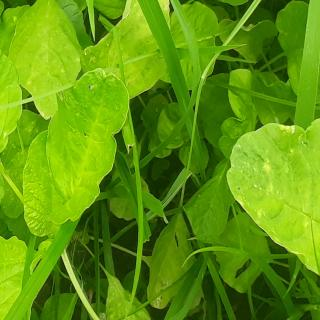karat_putih: (255, 130, 298, 206), (110, 302, 153, 320)
virus_keriting: (75, 66, 124, 101), (217, 100, 248, 144)
